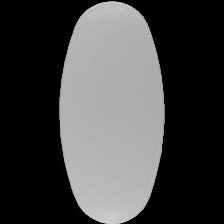10544-120: (0, 0, 224, 224)
